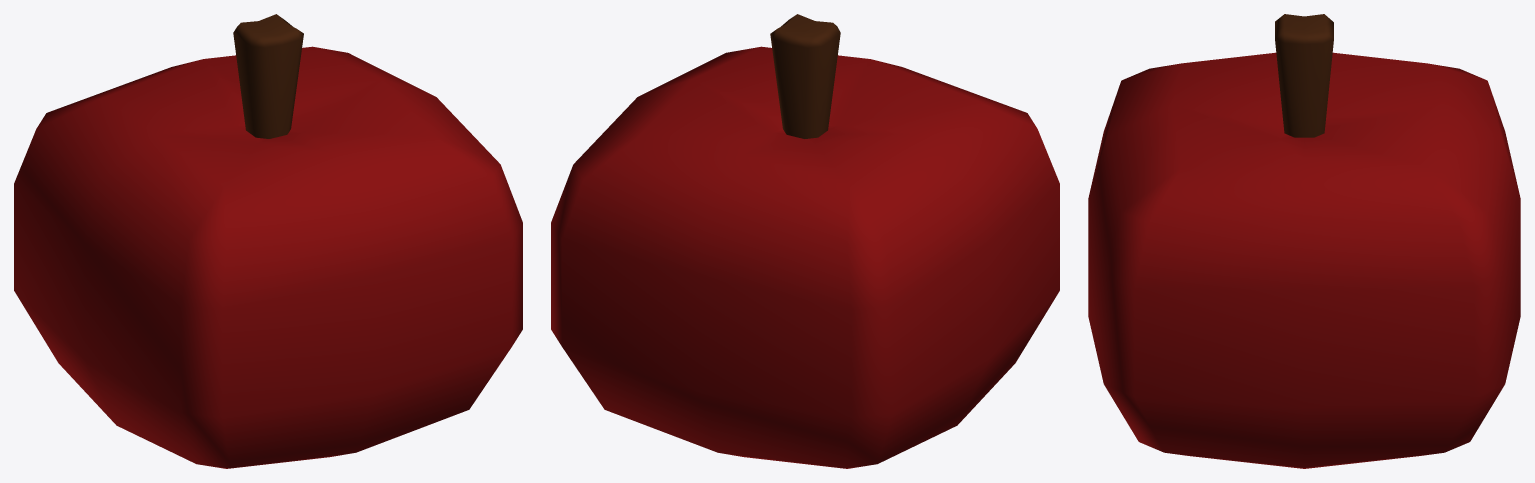
The model's file is MSH_int_apple.fbx.
The picture shows the model from 3 angles, left to right: view 1: azimuth 30°, elevation 25°; view 2: azimuth 150°, elevation 25°; view 3: azimuth 270°, elevation 25°; orthographic projection.
Visible parts, largest first — view 1: MSH_int_apple; view 2: MSH_int_apple; view 3: MSH_int_apple.
Part boxes in pixels (left/top/right/bottom): MSH_int_apple: left=14, top=14, right=522, bottom=468; MSH_int_apple: left=551, top=14, right=1059, bottom=468; MSH_int_apple: left=1088, top=14, right=1520, bottom=468.
Size of the model in its own units: 3.26 by 3.42 by 3.26.
